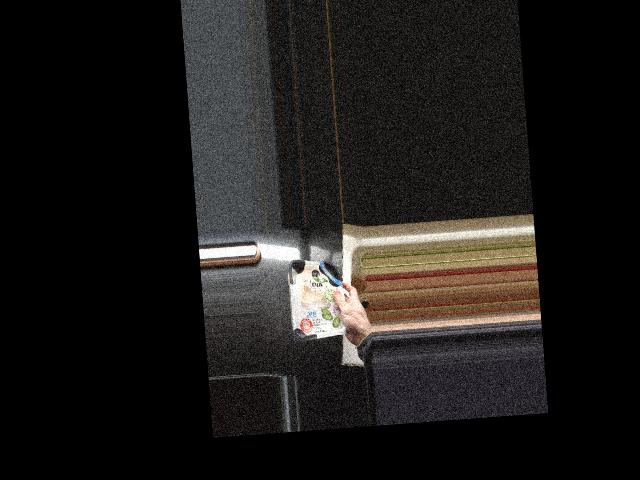cheese: (288, 257, 353, 341)
